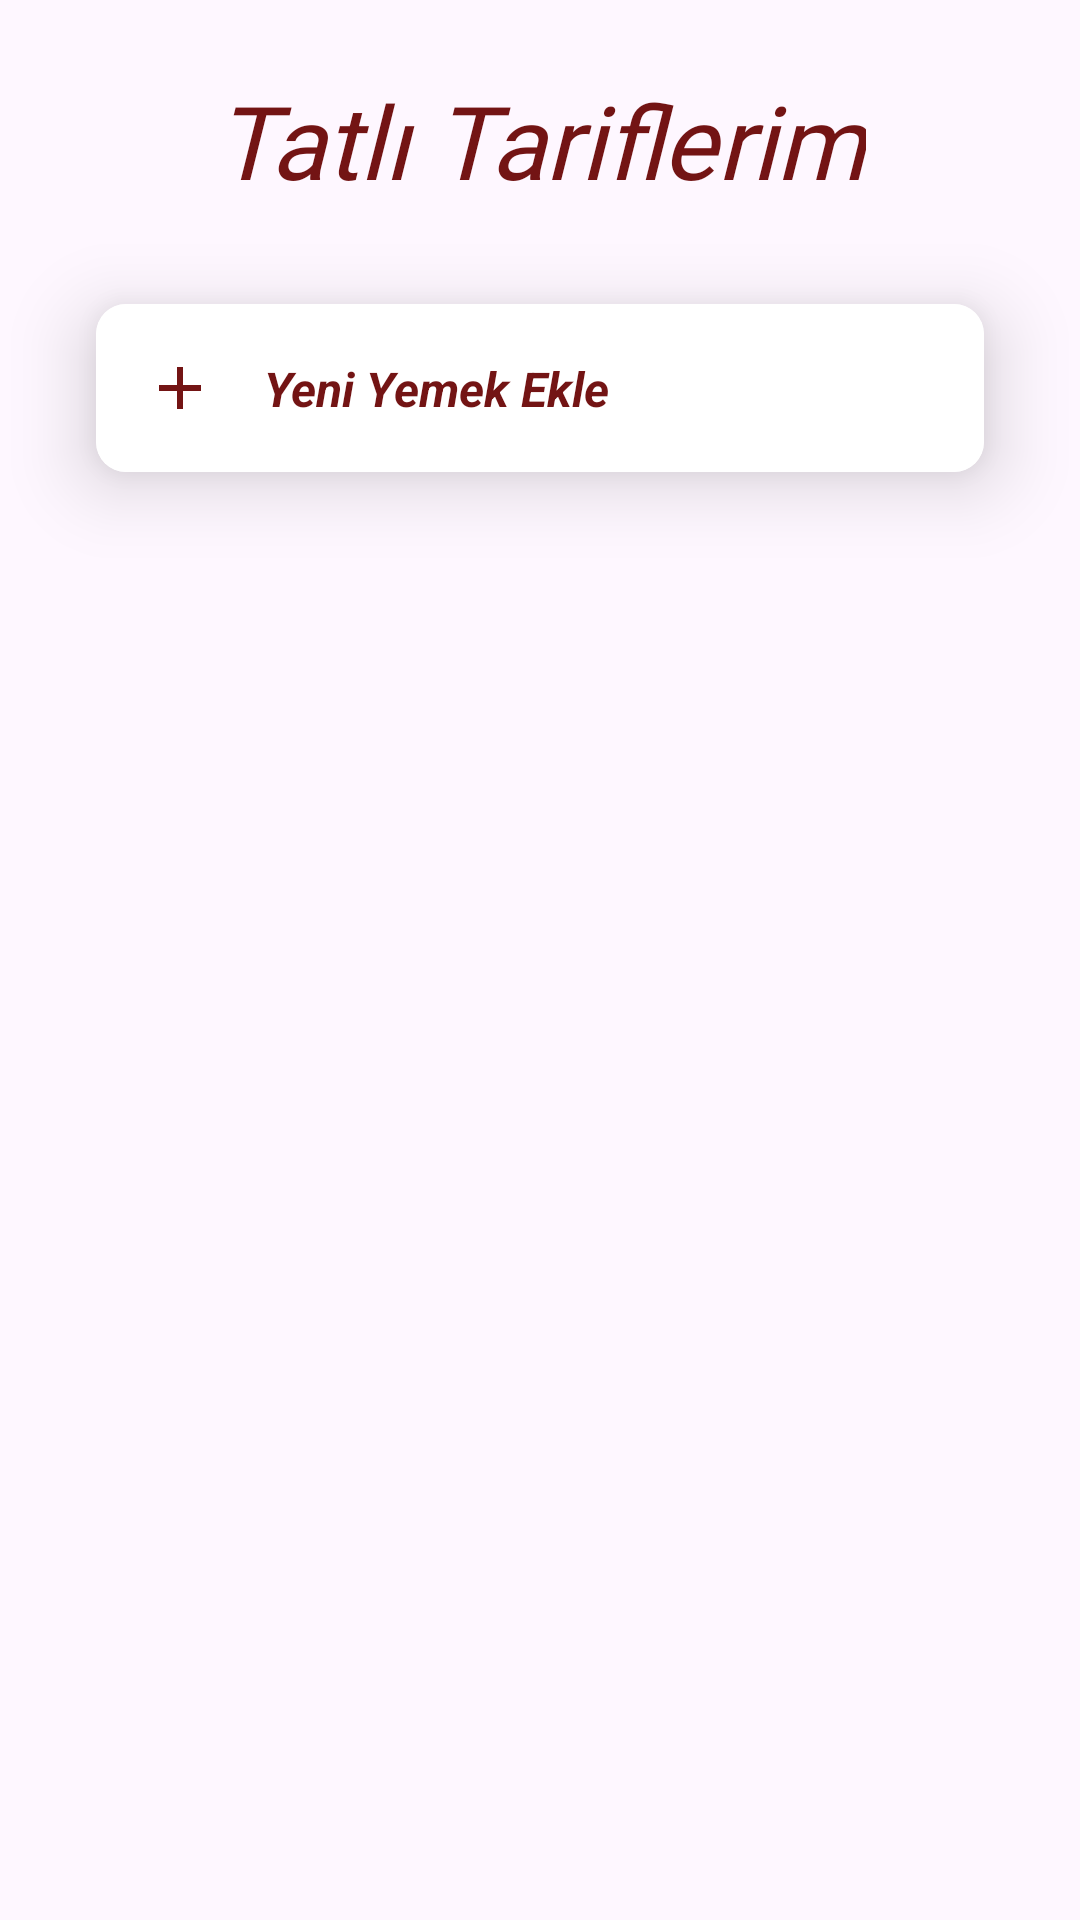

Screen size 1080w x 1920h. Icon name, then its box in pixels as {"x1": x1, "y1": y1, "x2": x2, "y2": y2}:
add: {"x1": 159, "y1": 367, "x2": 201, "y2": 409}
